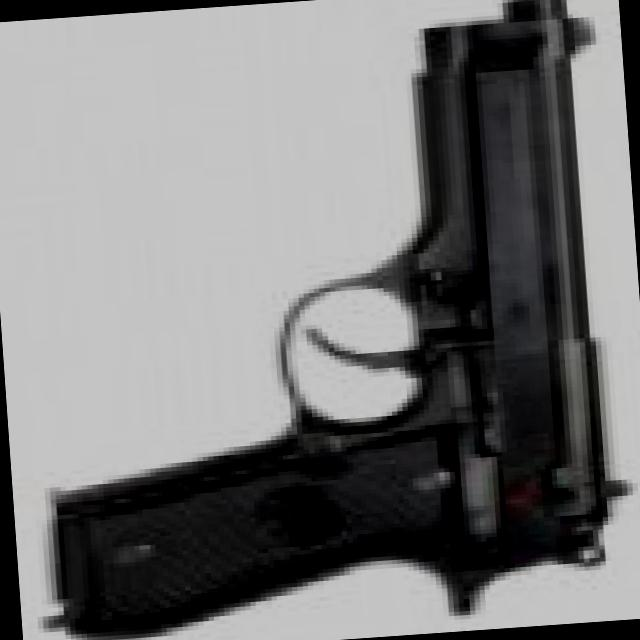handgun: (10, 0, 639, 632)
